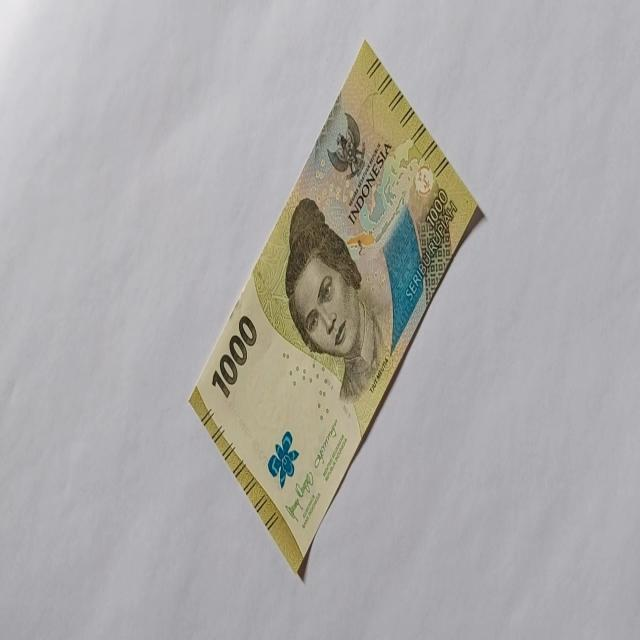seribu rupiah kertas: (187, 38, 485, 576)
